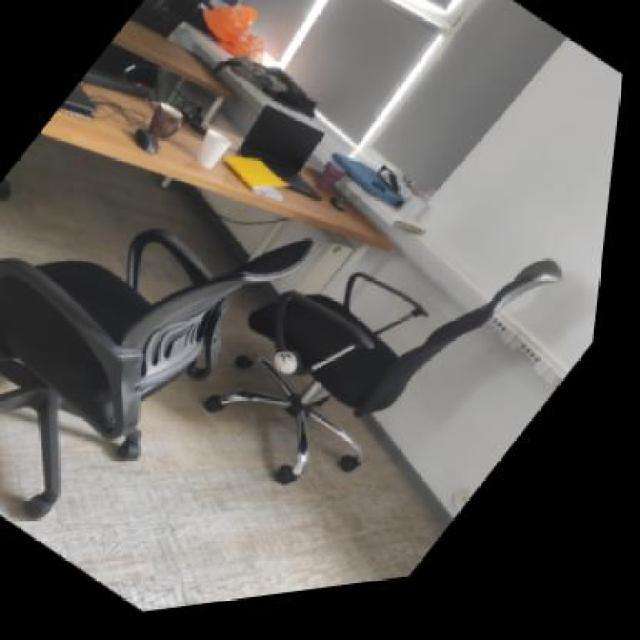chair: (166, 112, 606, 570), (0, 60, 365, 588)
